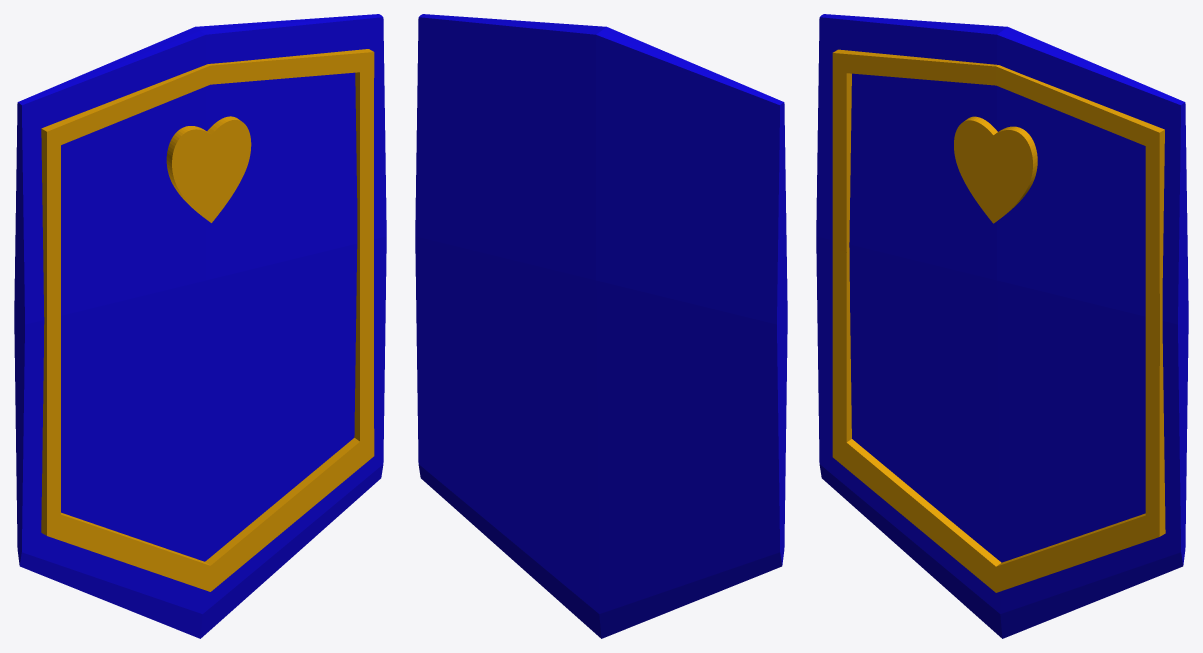
The model's file is scudetto.glb.
The picture shows the model from 3 angles, left to right: view 1: azimuth 30°, elevation 25°; view 2: azimuth 150°, elevation 25°; view 3: azimuth 330°, elevation 25°; orthographic projection.
Visible parts, largest first — view 1: ShieldFrame, Cornice, Cuore; view 2: ShieldFrame; view 3: ShieldFrame, Cornice, Cuore.
Boxes of the visible parts, left/top/right/bottom form: ShieldFrame: left=14, top=14, right=386, bottom=638; Cornice: left=41, top=49, right=374, bottom=591; Cuore: left=166, top=116, right=251, bottom=222; ShieldFrame: left=415, top=14, right=787, bottom=638; ShieldFrame: left=816, top=14, right=1188, bottom=638; Cornice: left=832, top=49, right=1165, bottom=592; Cuore: left=954, top=116, right=1037, bottom=223.
Size of the model in its own units: 0.0604 by 0.0971 by 0.00449.
